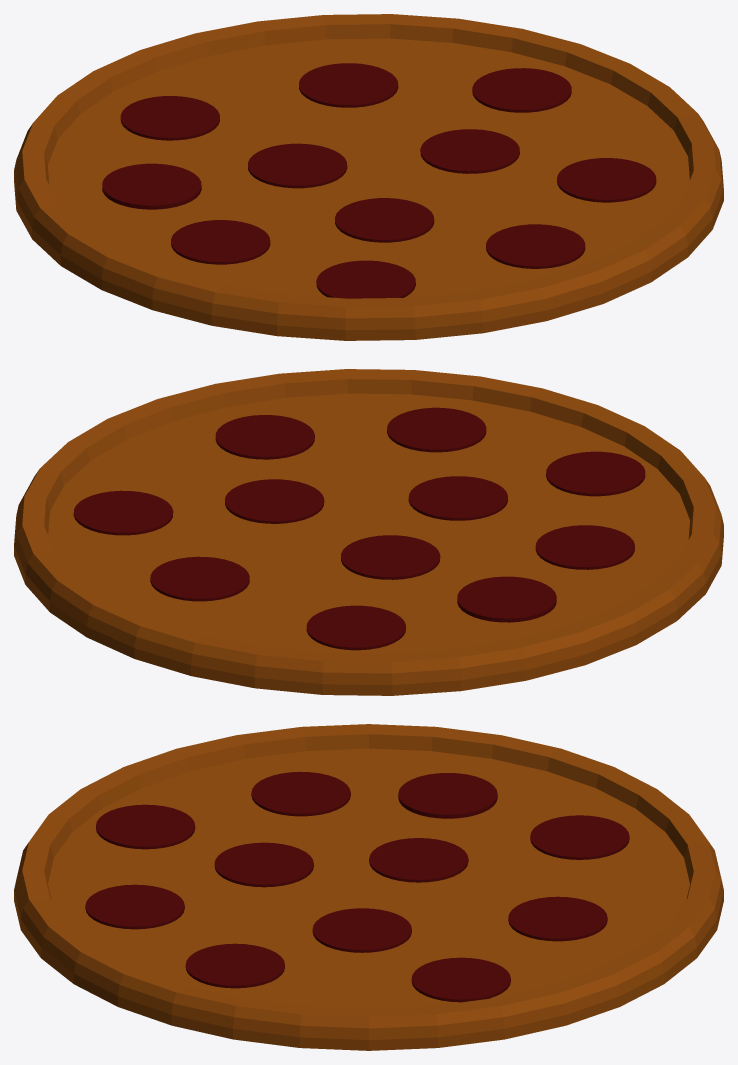
3 renders of one model, top to bottom at view 1: azimuth 30°, elevation 25°; view 2: azimuth 150°, elevation 25°; view 3: azimuth 270°, elevation 25°, orthographic.
Parts seen in each view (by area): view 1: Cylinder, Cylinder.001, Cylinder.002, Cylinder.004, Cylinder.005, Cylinder.003, Cylinder.009, Cylinder.007, Cylinder.008, Cylinder.011, Cylinder.010, Cylinder.006; view 2: Cylinder, Cylinder.001, Cylinder.006, Cylinder.007, Cylinder.005, Cylinder.003, Cylinder.010, Cylinder.002, Cylinder.009, Cylinder.011, Cylinder.004, Cylinder.008; view 3: Cylinder, Cylinder.001, Cylinder.004, Cylinder.003, Cylinder.006, Cylinder.011, Cylinder.007, Cylinder.010, Cylinder.002, Cylinder.009, Cylinder.005, Cylinder.008.
Boxes of the visible parts, <box> form: Cylinder: <box>14,14,723,340</box>; Cylinder.001: <box>102,163,201,209</box>; Cylinder.002: <box>299,63,398,107</box>; Cylinder.004: <box>420,129,519,173</box>; Cylinder.005: <box>486,224,585,268</box>; Cylinder.003: <box>248,143,347,188</box>; Cylinder.009: <box>335,198,434,242</box>; Cylinder.007: <box>120,96,219,140</box>; Cylinder.008: <box>472,68,571,112</box>; Cylinder.011: <box>557,158,656,202</box>; Cylinder.010: <box>171,220,270,264</box>; Cylinder.006: <box>316,260,415,298</box>; Cylinder: <box>14,369,723,695</box>; Cylinder.001: <box>457,576,556,622</box>; Cylinder.006: <box>546,451,645,496</box>; Cylinder.007: <box>306,605,405,650</box>; Cylinder.005: <box>387,407,486,452</box>; Cylinder.003: <box>341,535,440,579</box>; Cylinder.010: <box>535,525,634,569</box>; Cylinder.002: <box>150,556,249,601</box>; Cylinder.009: <box>408,476,507,520</box>; Cylinder.011: <box>215,415,314,459</box>; Cylinder.004: <box>225,479,324,523</box>; Cylinder.008: <box>73,490,173,535</box>; Cylinder: <box>14,724,723,1050</box>; Cylinder.001: <box>398,773,497,818</box>; Cylinder.004: <box>312,908,411,952</box>; Cylinder.003: <box>369,838,468,882</box>; Cylinder.006: <box>96,804,195,849</box>; Cylinder.011: <box>185,943,284,988</box>; Cylinder.007: <box>530,815,629,859</box>; Cylinder.010: <box>251,771,350,816</box>; Cylinder.002: <box>508,896,607,941</box>; Cylinder.009: <box>214,842,313,887</box>; Cylinder.005: <box>85,884,184,929</box>; Cylinder.008: <box>411,957,510,1002</box>.
Bounding box in the file's own units: 2 × 0.0942 × 2.
